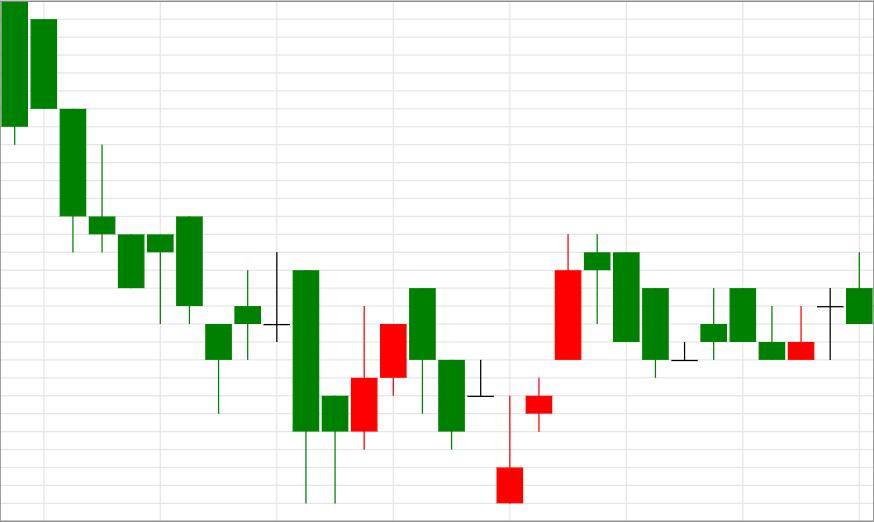hammer_rise: (2, 2, 232, 414)
